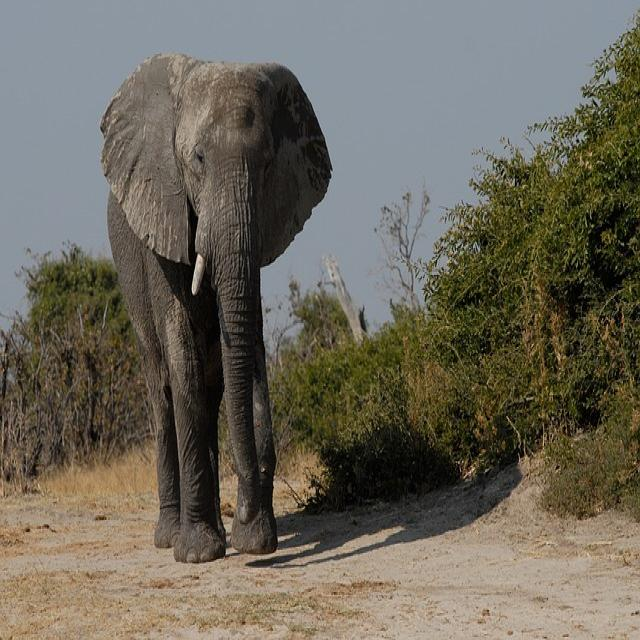elephant: (100, 53, 333, 566)
